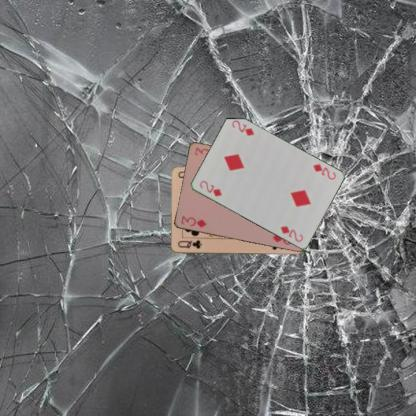2d: (310, 161, 337, 181), (197, 178, 223, 198)
3d: (178, 213, 207, 229)
Qc: (175, 238, 203, 250)
